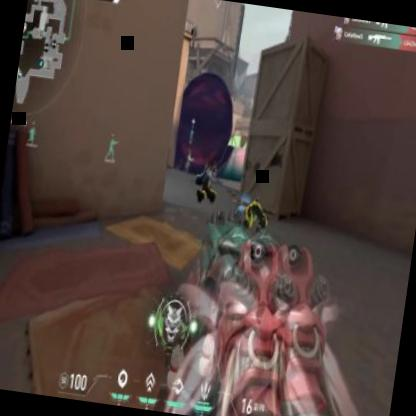enemy: (184, 150, 193, 174)
enemy_head: (188, 150, 192, 157)
